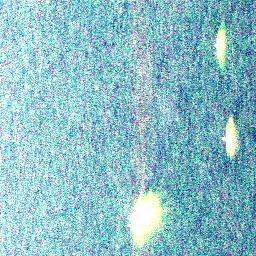Ship: (123, 190, 167, 245), (222, 116, 240, 155), (214, 21, 229, 65)
